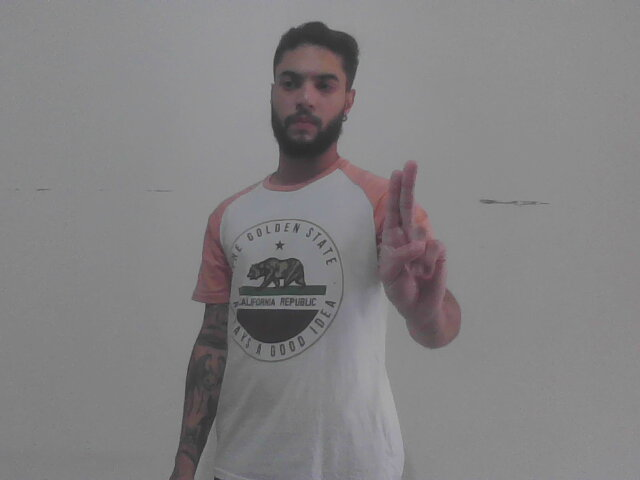u: (374, 158, 452, 332)
